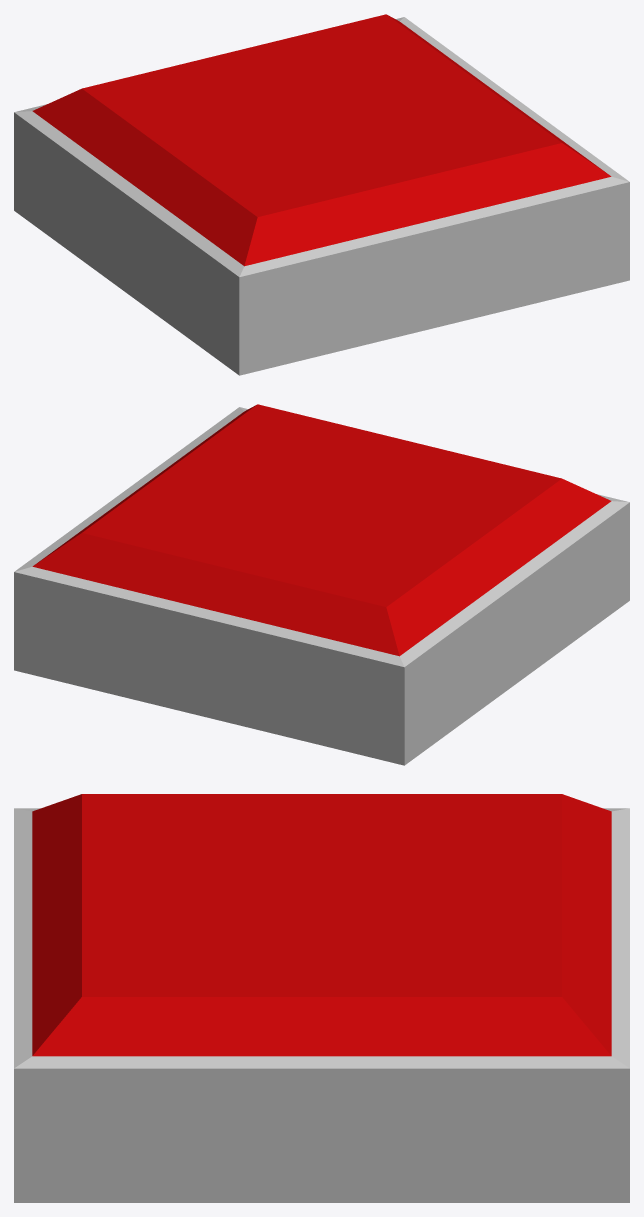
The model's file is button.obj.
The picture shows the model from 3 angles, top to bottom: view 1: azimuth 30°, elevation 25°; view 2: azimuth 150°, elevation 25°; view 3: azimuth 270°, elevation 25°; orthographic projection. The views are drawn at different scales.
Visible parts, largest first — view 1: Cube; view 2: Cube; view 3: Cube.
Part boxes in pixels (left/top/right/bottom): Cube: left=14, top=14, right=629, bottom=375; Cube: left=14, top=404, right=629, bottom=765; Cube: left=14, top=794, right=629, bottom=1202.
Bounding box in the file's own units: 2 × 0.6353 × 2.
